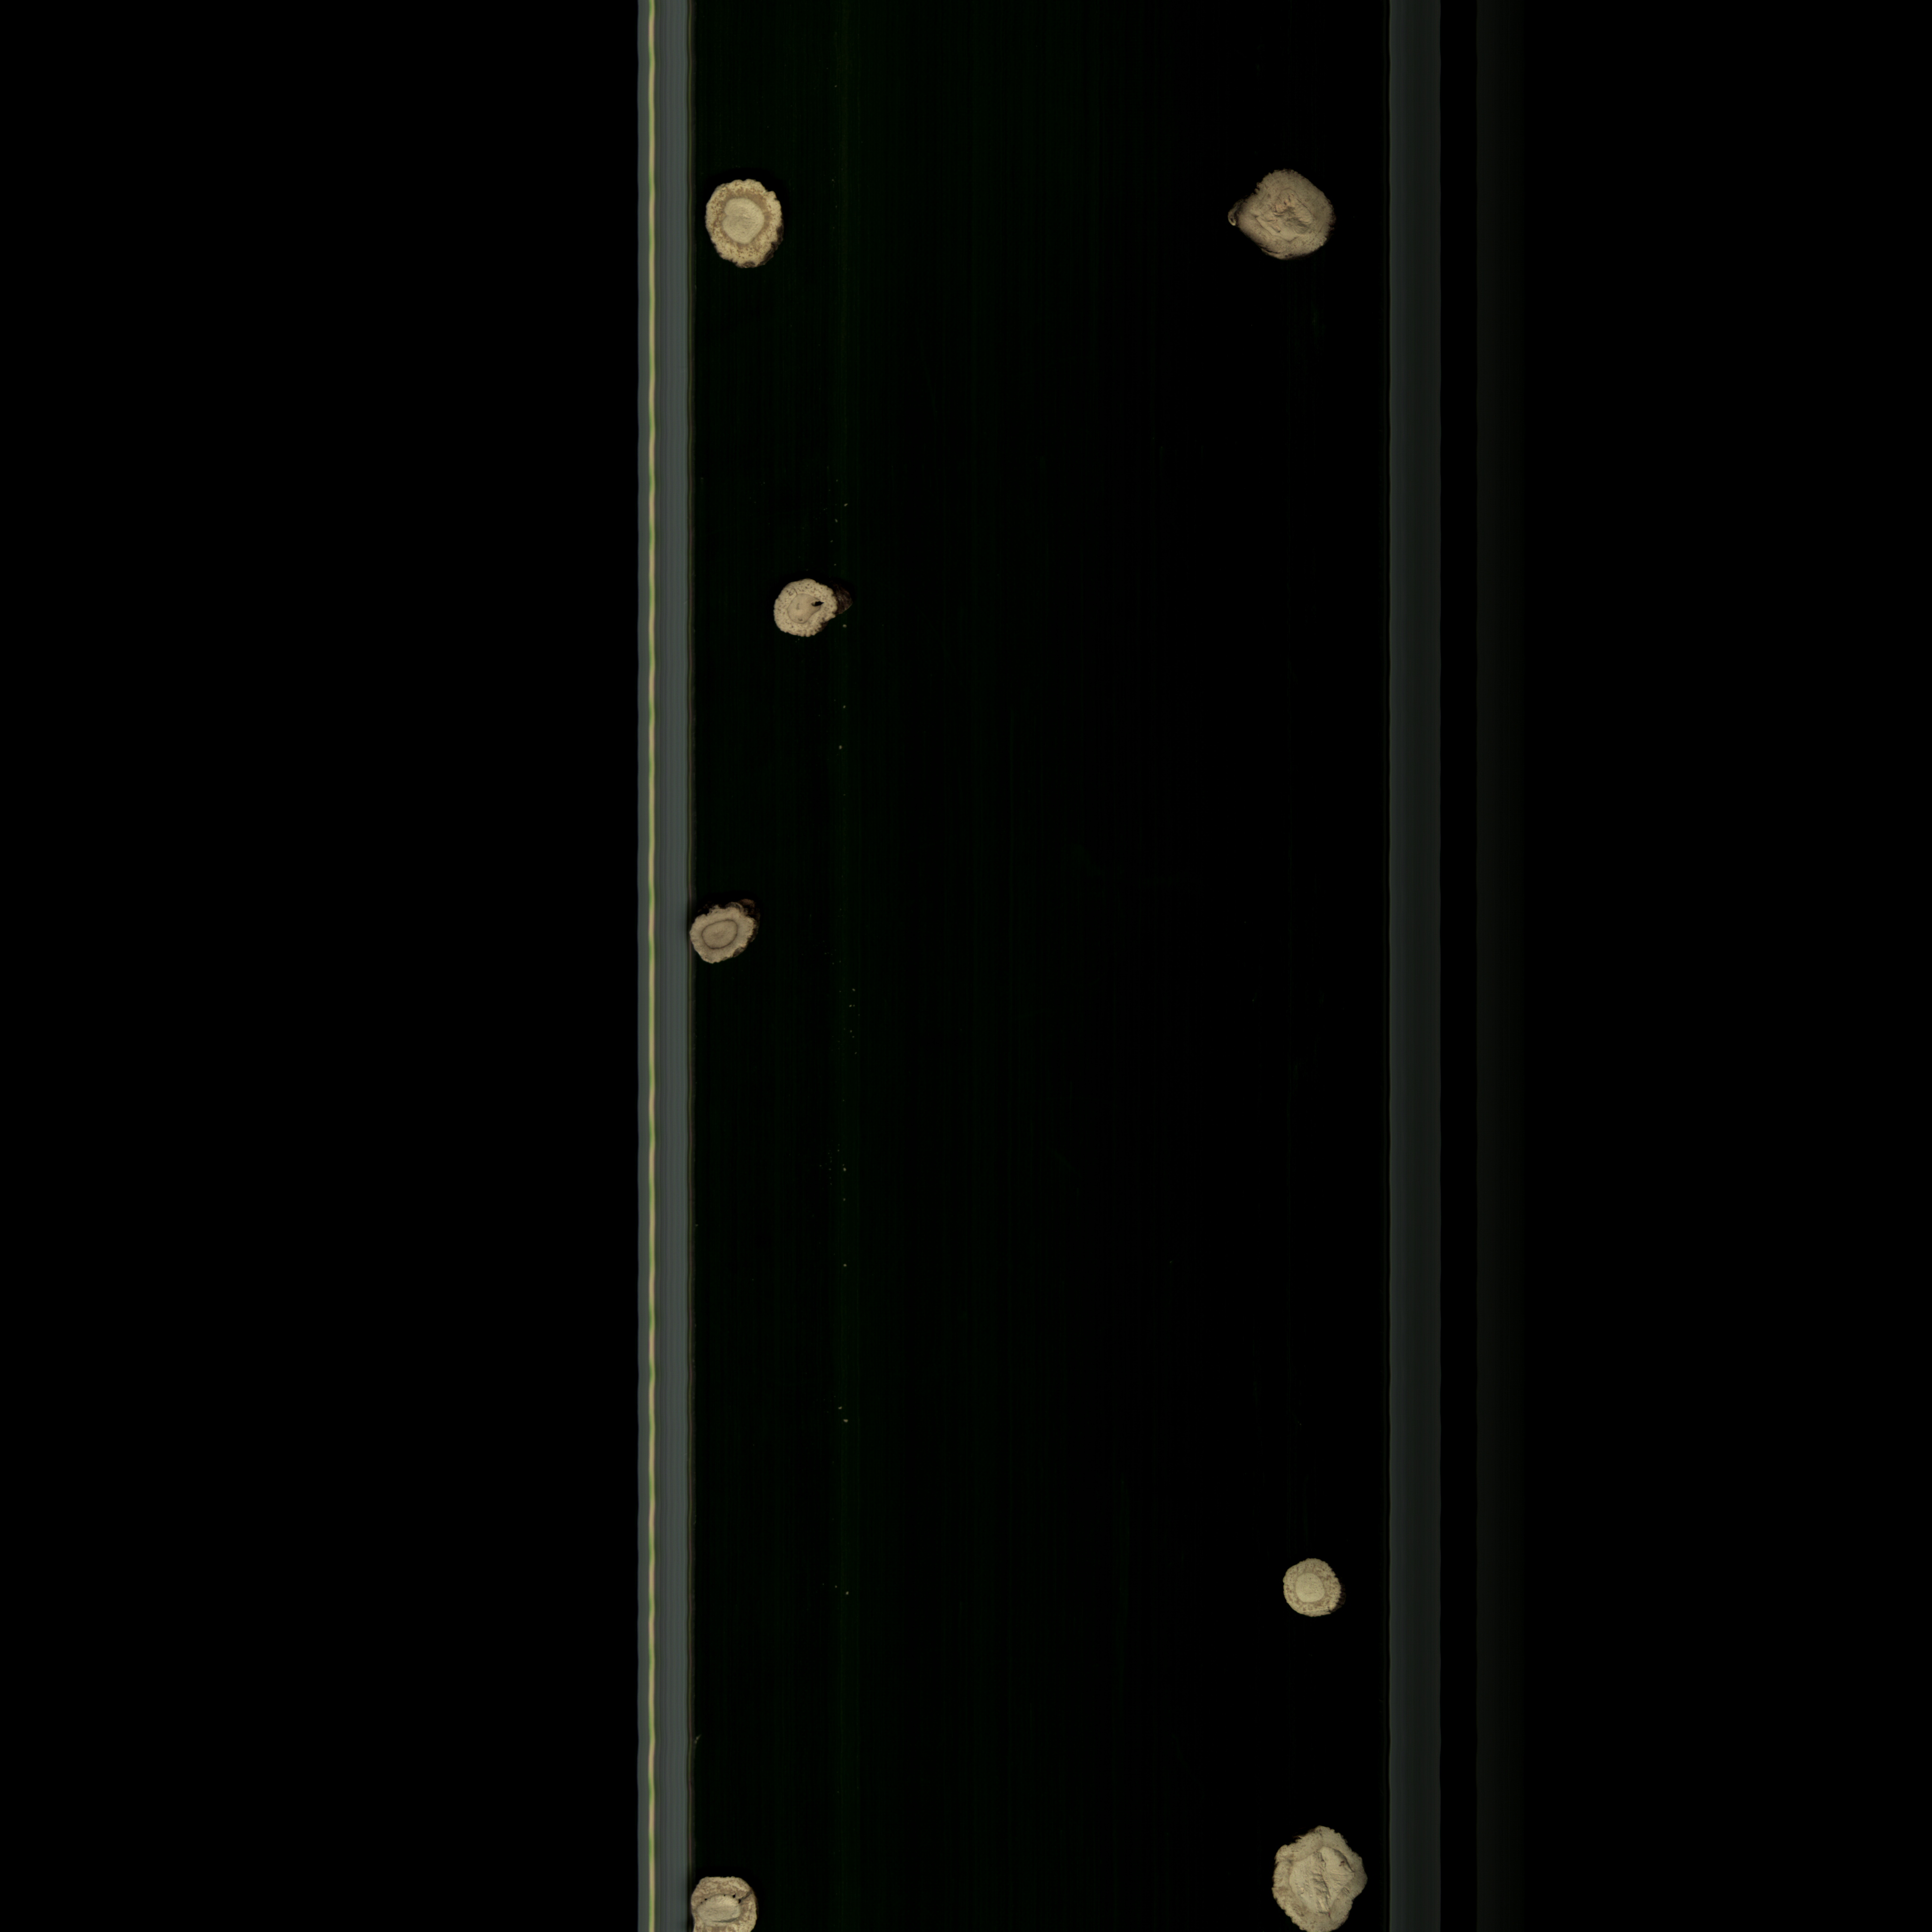distortion: (1263, 1815, 1378, 1932)
moldy: (1215, 161, 1350, 269), (699, 175, 798, 272), (764, 573, 860, 644), (685, 1865, 780, 1932), (686, 901, 770, 970)
